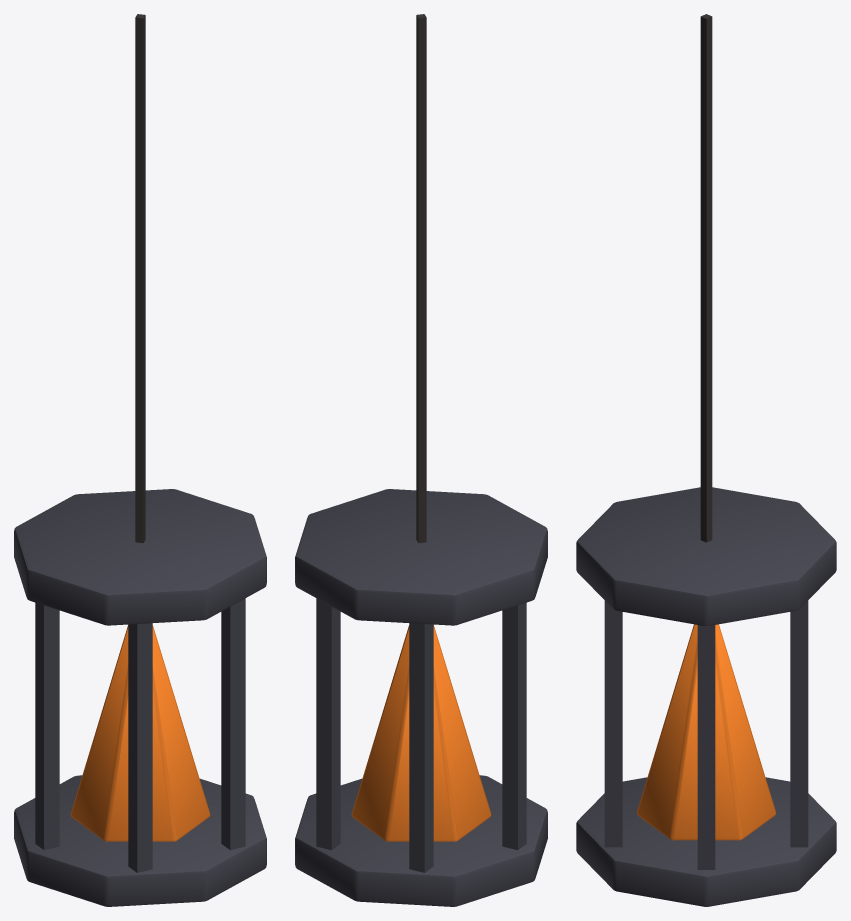
The model's file is HangFire.fbx.
3 renders of one model, left to right at view 1: azimuth 30°, elevation 25°; view 2: azimuth 150°, elevation 25°; view 3: azimuth 270°, elevation 25°, orthographic.
Parts seen in each view (by area): view 1: HangFire; view 2: HangFire; view 3: HangFire.
Part boxes in pixels (x1,y1,x2,y2): HangFire: (14,14,266,906); HangFire: (295,14,547,906); HangFire: (576,14,836,906).
Size of the model in its own units: 219 by 775 by 219.
